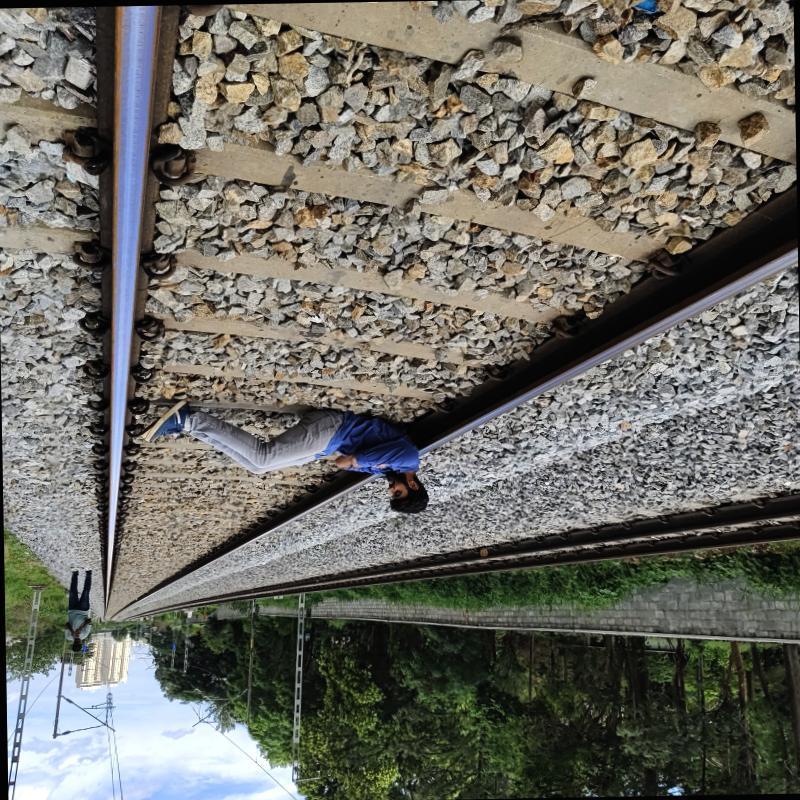sleeping: (135, 390, 427, 528)
